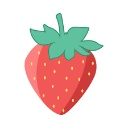strawberry: (24, 21, 97, 115)
